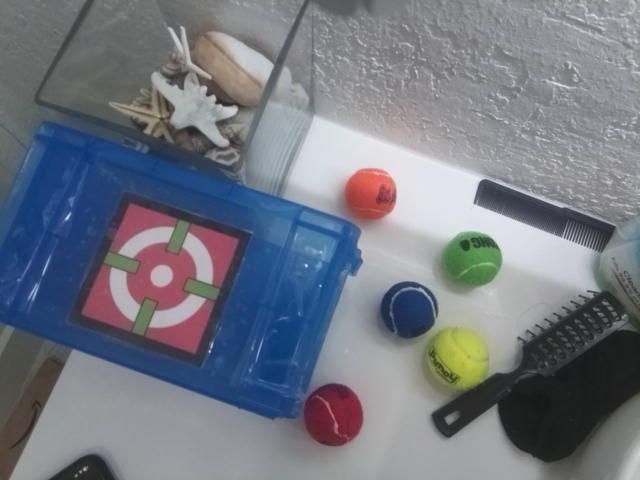blue-ball: (379, 280, 439, 338)
drop-bin: (69, 192, 251, 366)
green-ball: (442, 228, 504, 287)
orange-ball: (342, 165, 398, 222)
red-ball: (302, 382, 364, 447)
yellow-ball: (424, 326, 490, 391)
